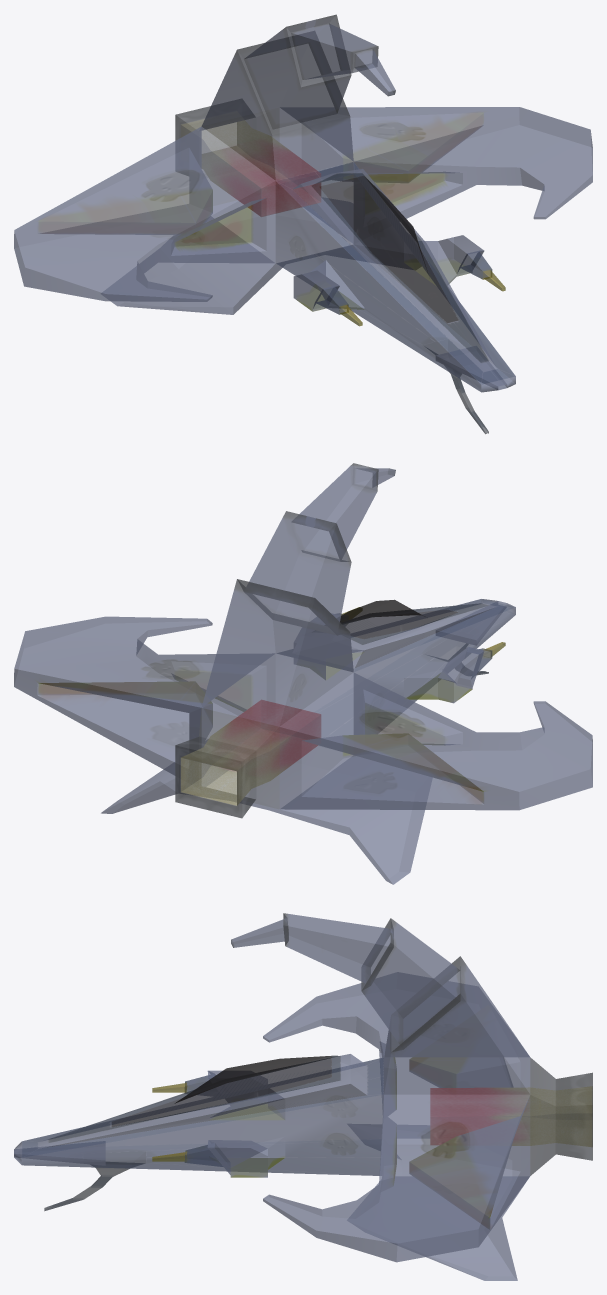
File: Ship.FBX
3 views of the same model, one above another, from view 1: azimuth 30°, elevation 25°; view 2: azimuth 150°, elevation 25°; view 3: azimuth 270°, elevation 25° (orthographic).
Parts seen in each view (by area): view 1: polySurface1; view 2: polySurface1; view 3: polySurface1.
Boxes of the visible parts, <box> form: polySurface1: <box>14,14,592,434</box>; polySurface1: <box>14,463,592,884</box>; polySurface1: <box>14,913,592,1280</box>.
Bounding box in the file's own units: 22.11 × 19.79 × 10.99.
Materials: 1 (1 with a texture image).
